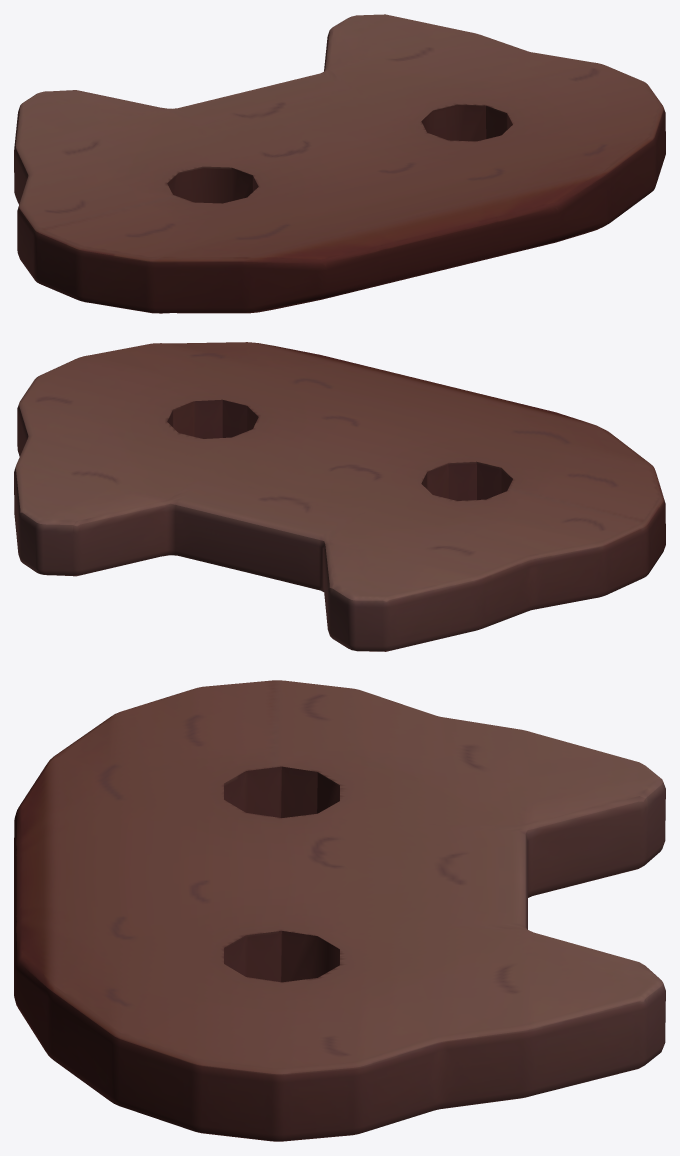
Rendered from tapa.obj.
3 views of the same model, one above another, from view 1: azimuth 30°, elevation 25°; view 2: azimuth 150°, elevation 25°; view 3: azimuth 270°, elevation 25° (orthographic). The views are drawn at different scales.
Visible parts, largest first — view 1: Top; view 2: Top; view 3: Top.
Part boxes in pixels (x1=…): Top: x1=14, y1=14, x2=665, y2=313; Top: x1=14, y1=342, x2=665, y2=651; Top: x1=14, y1=680, x2=665, y2=1141.
Bounding box in the file's own units: 212 × 20.21 × 148.
Materials: 1 (1 with a texture image).
